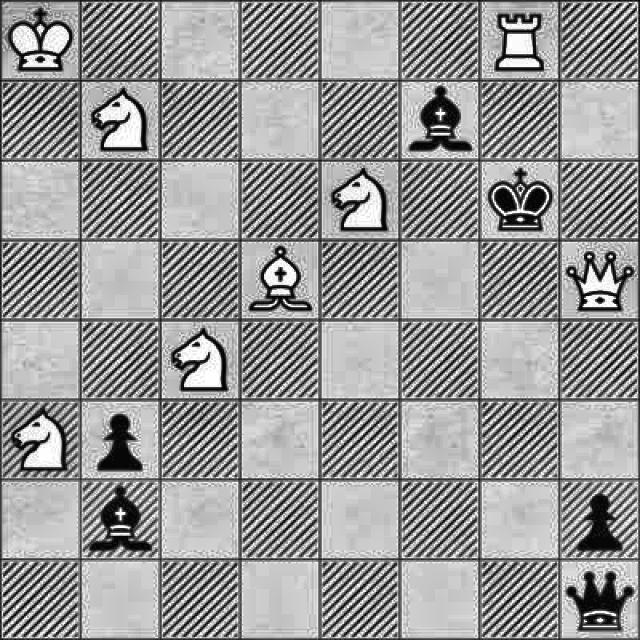black bishop: (404, 82, 481, 161), (81, 486, 156, 560)
black king: (482, 164, 555, 242)
black pawn: (561, 480, 640, 560), (84, 405, 166, 479)
black queen: (555, 563, 640, 640)
white bishop: (245, 239, 311, 316)
white king: (7, 0, 75, 76)
white queen: (563, 240, 640, 315)
white rook: (483, 5, 558, 76)
whiteknight: (85, 79, 161, 163), (1, 402, 78, 476), (166, 322, 234, 399), (322, 167, 392, 232)
